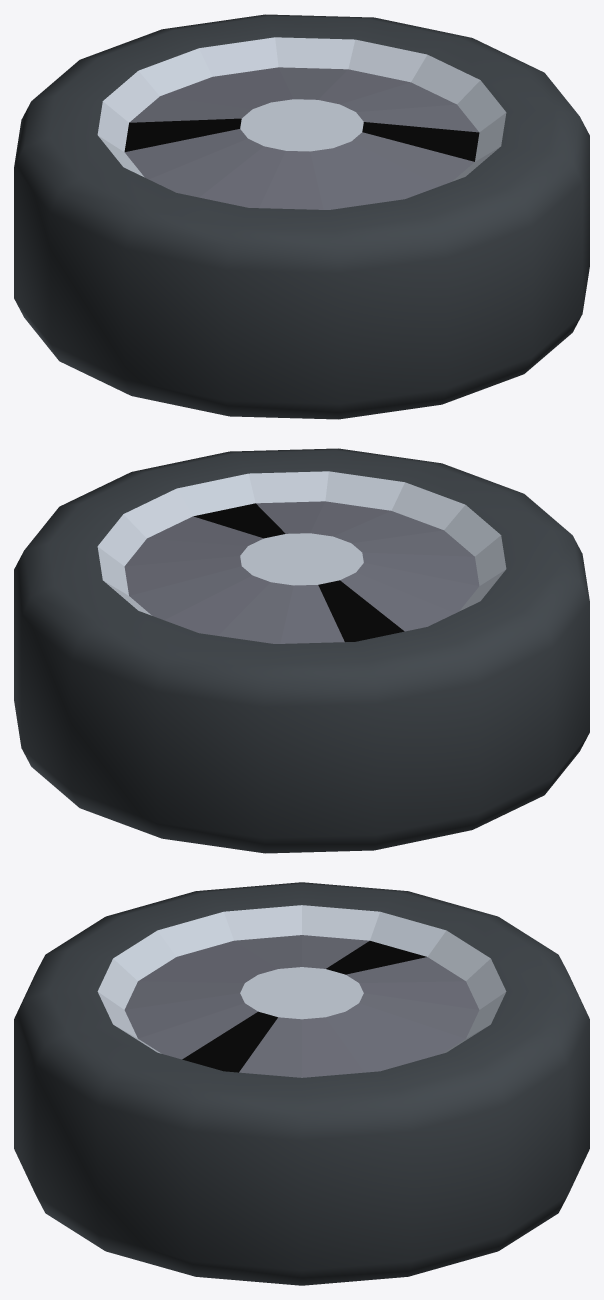
The model's file is tyre.dae.
The picture shows the model from 3 angles, top to bottom: view 1: azimuth 30°, elevation 25°; view 2: azimuth 150°, elevation 25°; view 3: azimuth 270°, elevation 25°; orthographic projection.
Parts seen in each view (by area): view 1: Rueda_final; view 2: Rueda_final; view 3: Rueda_final.
Part boxes in pixels (x1,y1,x2,y2): Rueda_final: [14, 14, 589, 419]; Rueda_final: [14, 448, 589, 853]; Rueda_final: [14, 882, 589, 1285].
Size of the model in its own units: 0.508 by 0.508 by 0.18.
